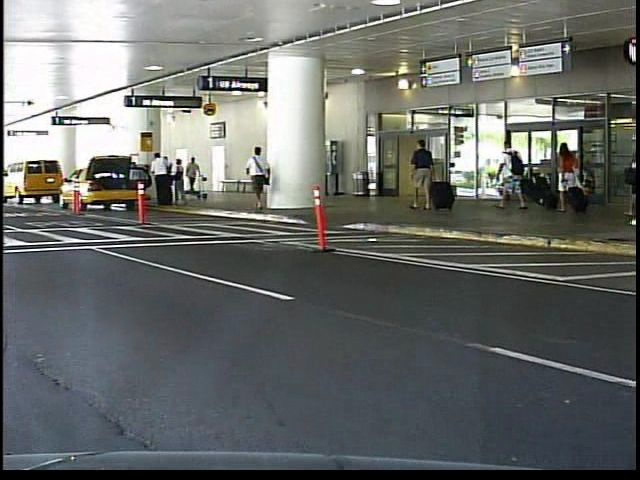person: (495, 133, 532, 213), (555, 133, 587, 221), (408, 136, 439, 212), (244, 142, 275, 215), (186, 154, 202, 197)
